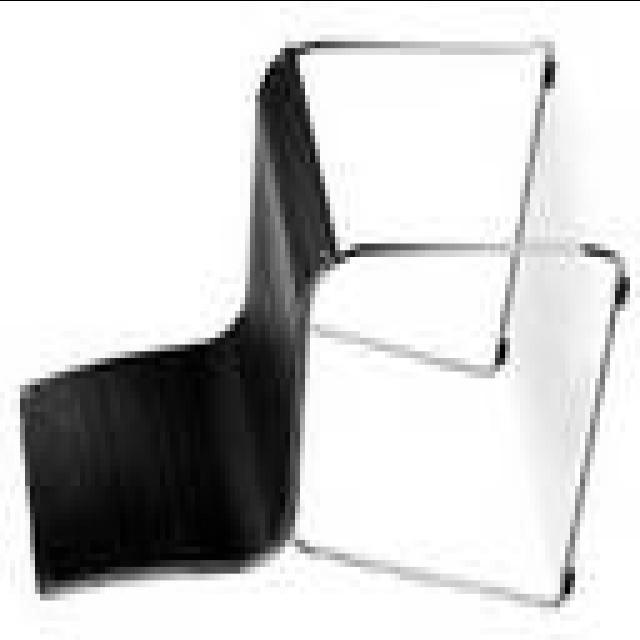chair: (1, 3, 629, 616)
